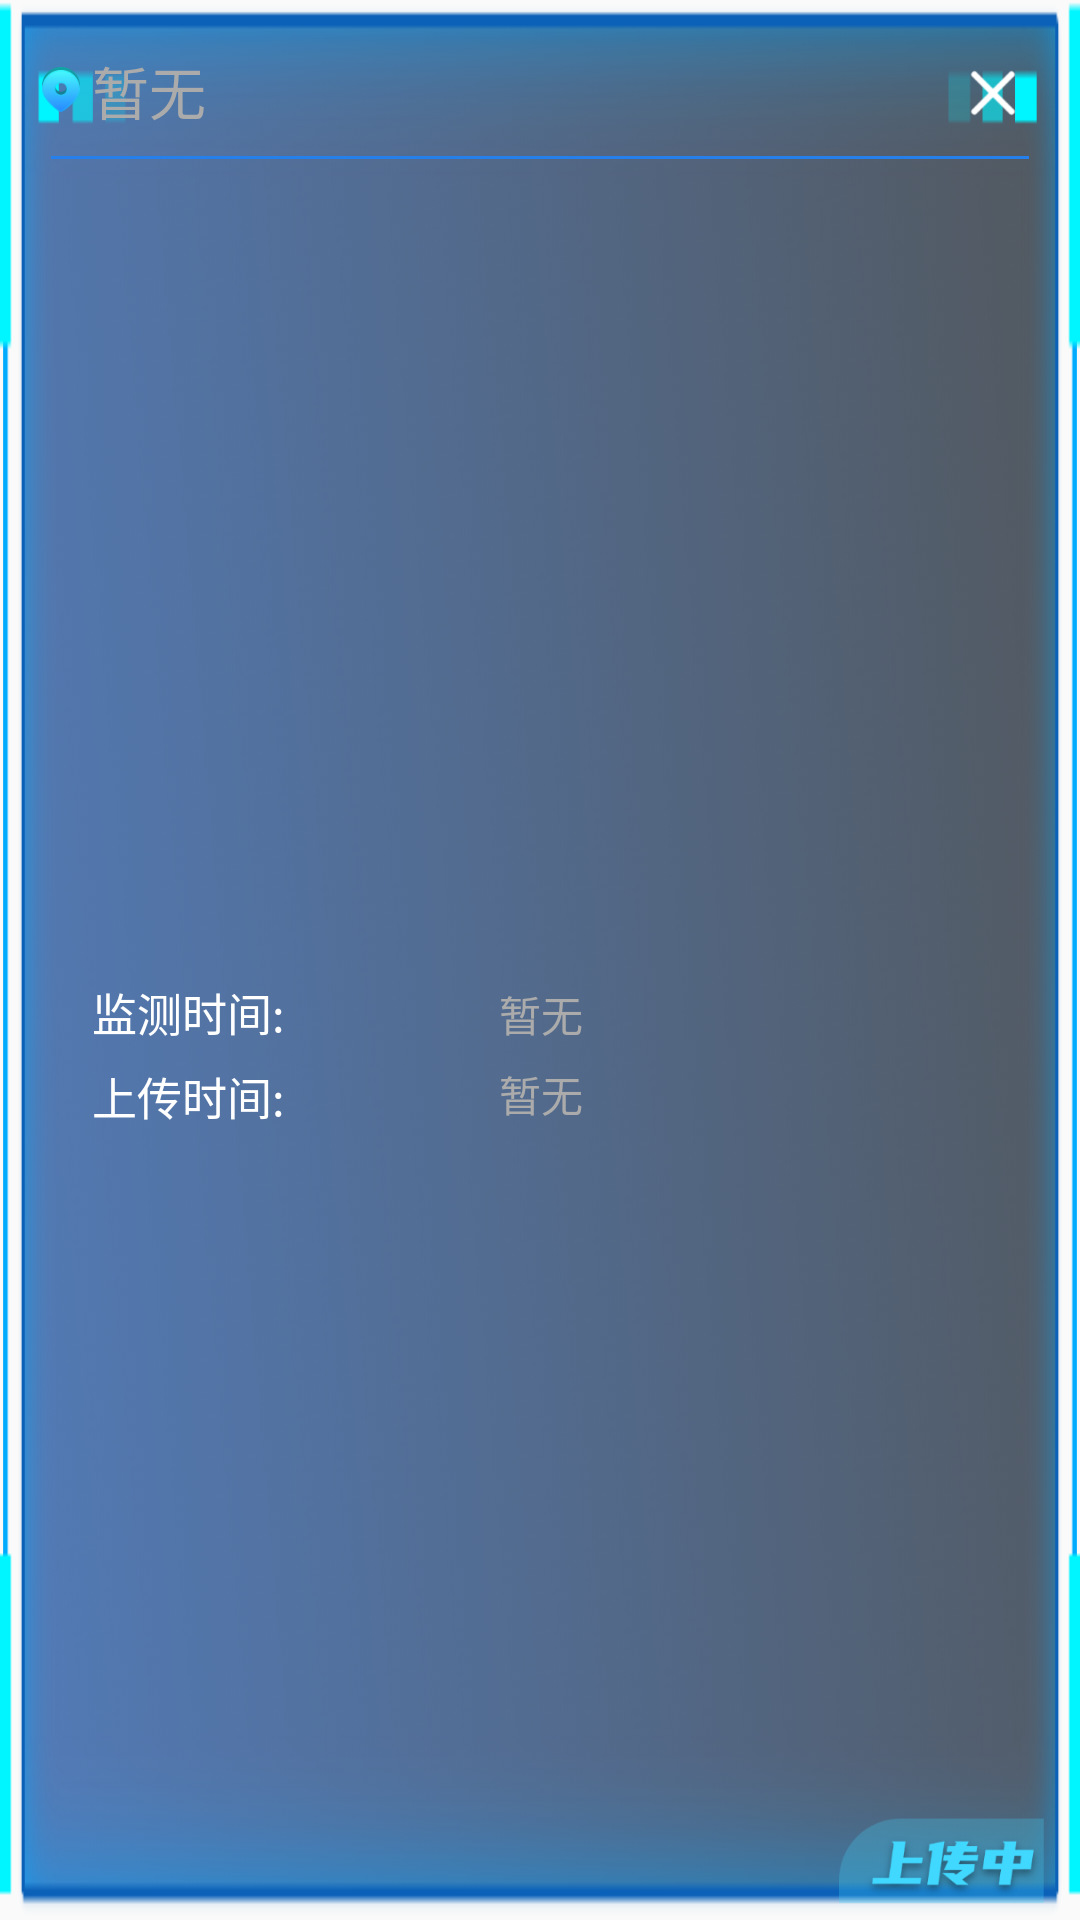

Icons on this 1080 x 1920 Android screen, each with the point to tap as [x,y]:
coordinate: [61,89]
